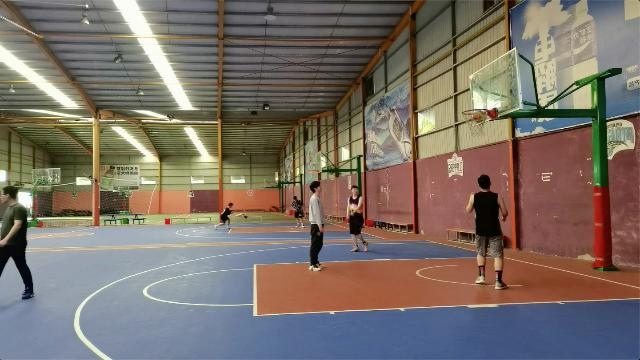basket: (462, 108, 488, 137)
goal: (470, 107, 486, 123)
